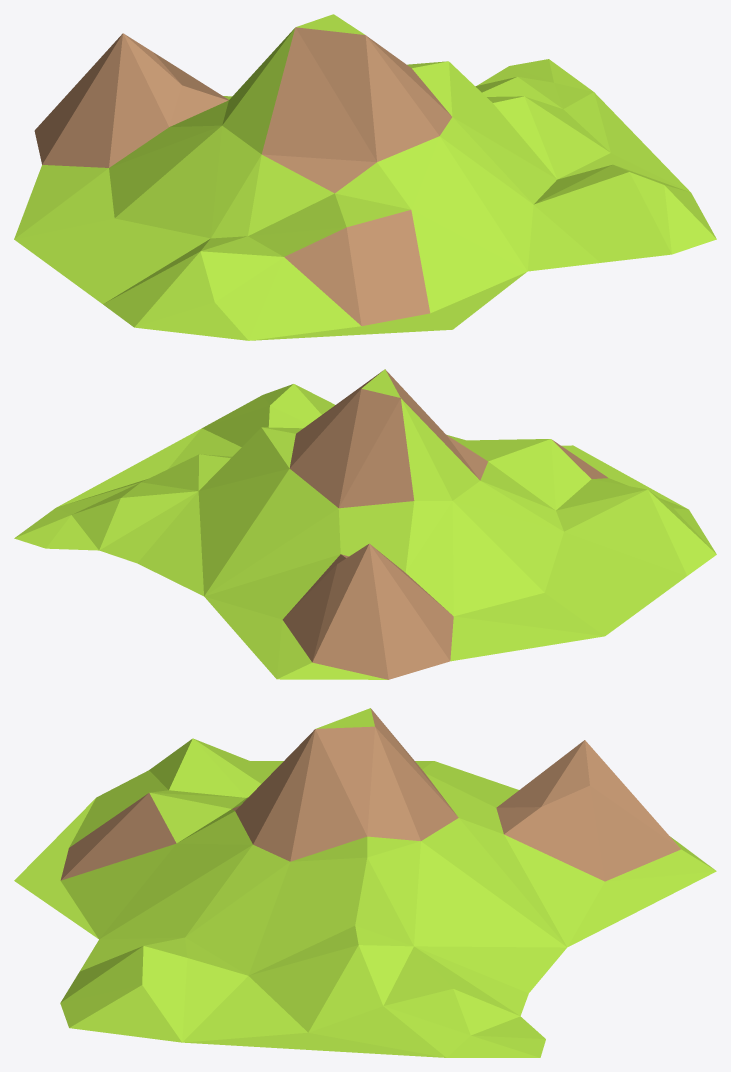
Rendered from Mountain1.fbx.
3 views of the same model, one above another, from view 1: azimuth 30°, elevation 25°; view 2: azimuth 150°, elevation 25°; view 3: azimuth 270°, elevation 25° (orthographic). The views are drawn at different scales.
Visible parts, largest first — view 1: generic_mountain_1; view 2: generic_mountain_1; view 3: generic_mountain_1.
Part boxes in pixels (<box>): generic_mountain_1: <box>14,14,716,340</box>; generic_mountain_1: <box>14,369,716,679</box>; generic_mountain_1: <box>14,708,716,1057</box>.
Bounding box in the file's own units: 25360 × 7238 × 25354.
